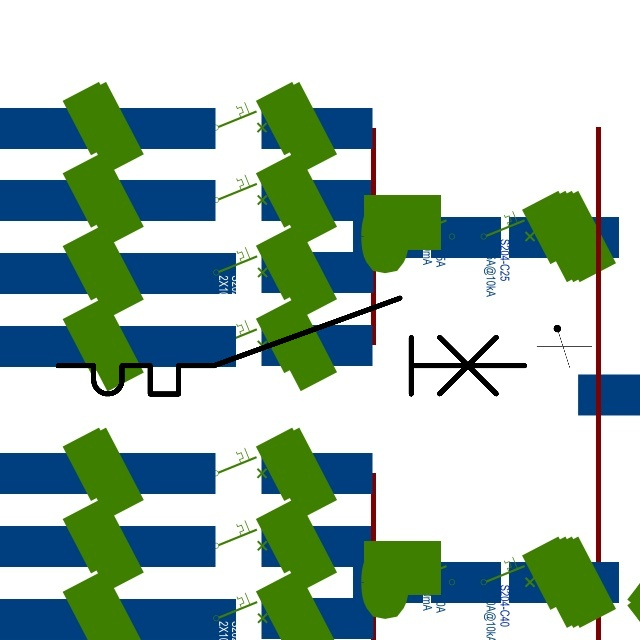interruptor_termomagnetico: (46, 286, 536, 406)
